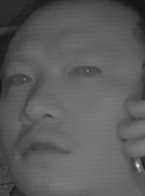eye: (67, 60, 102, 82), (6, 68, 33, 88)
mouth: (18, 130, 72, 164)
